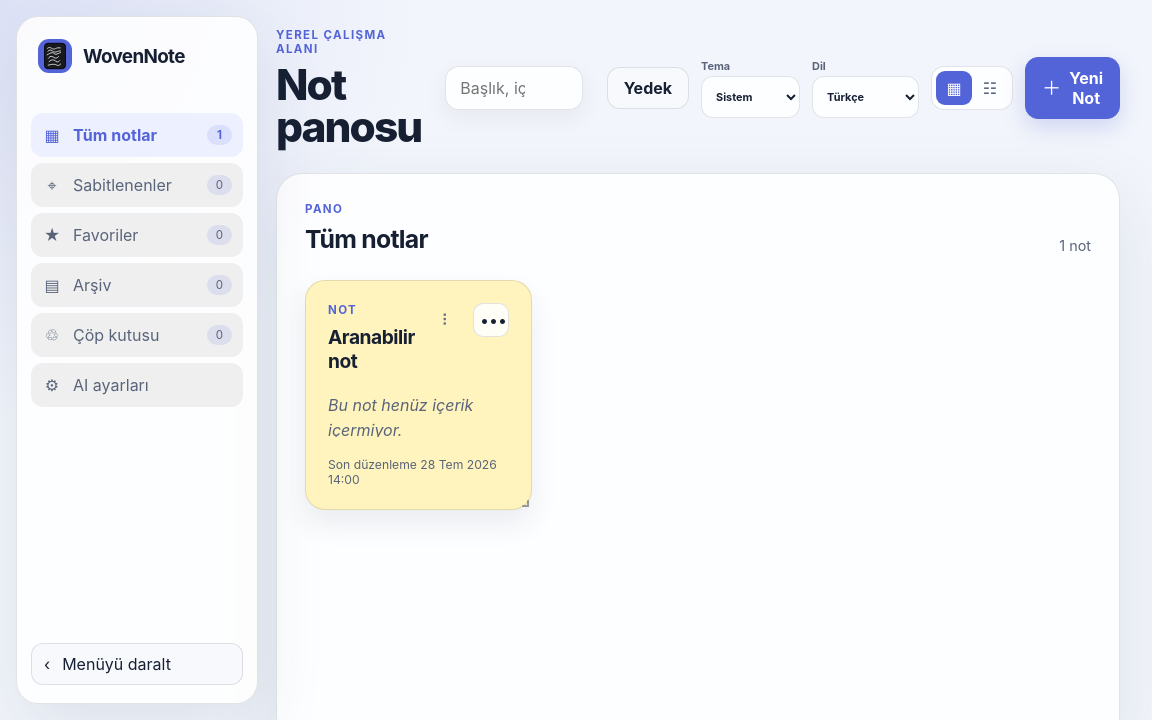
App note board › finds and cycles through matches with the in-note search
Expected: the heading "Aranabilir not" is shown, [328,325,421,373]
Click the button named "Aranabilir not notunu aç": (418, 395) [306,281,531,509]
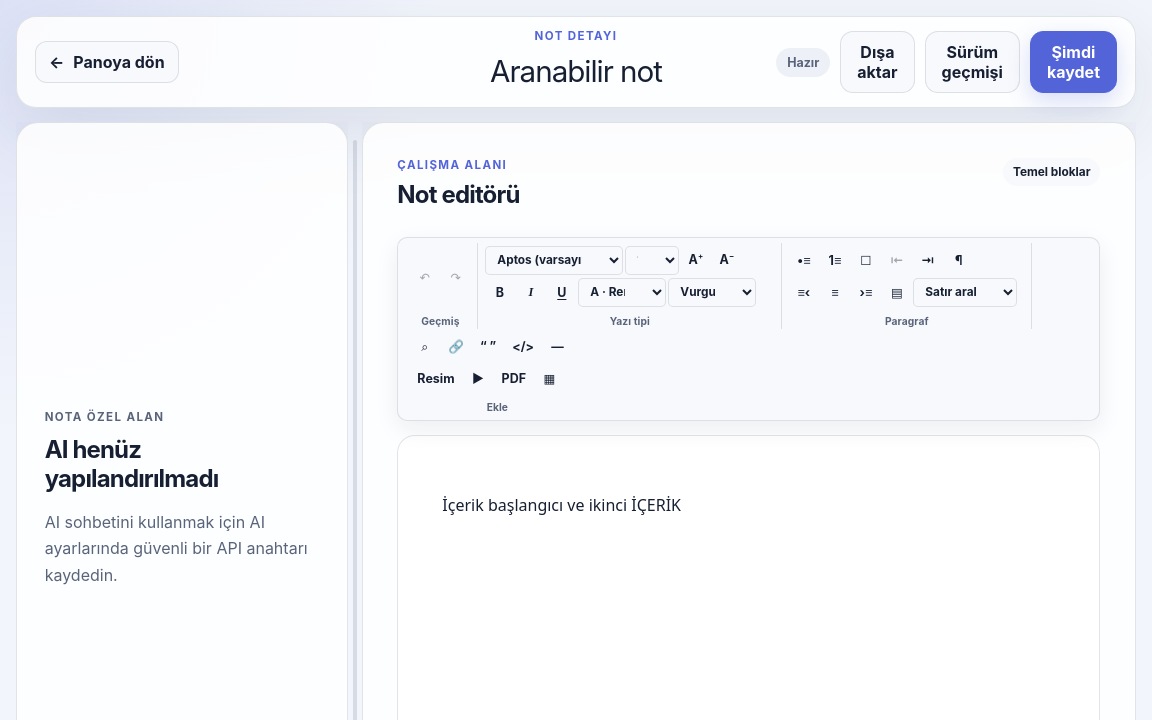
Expected: the text box "İçerik başlangıcı ve ikinci İÇERİK" is shown, [442,494,681,516]
Press f
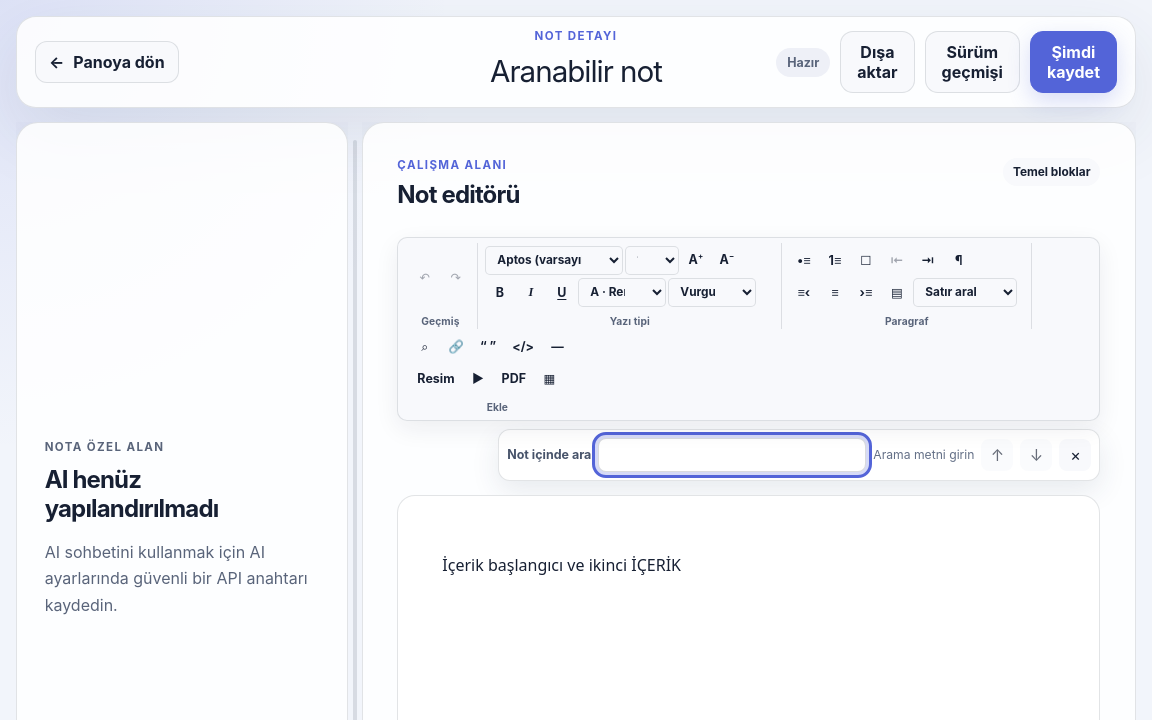
In the search field labelled "Not içinde ara": (732, 454) [598,438,866,472], type "içerik"
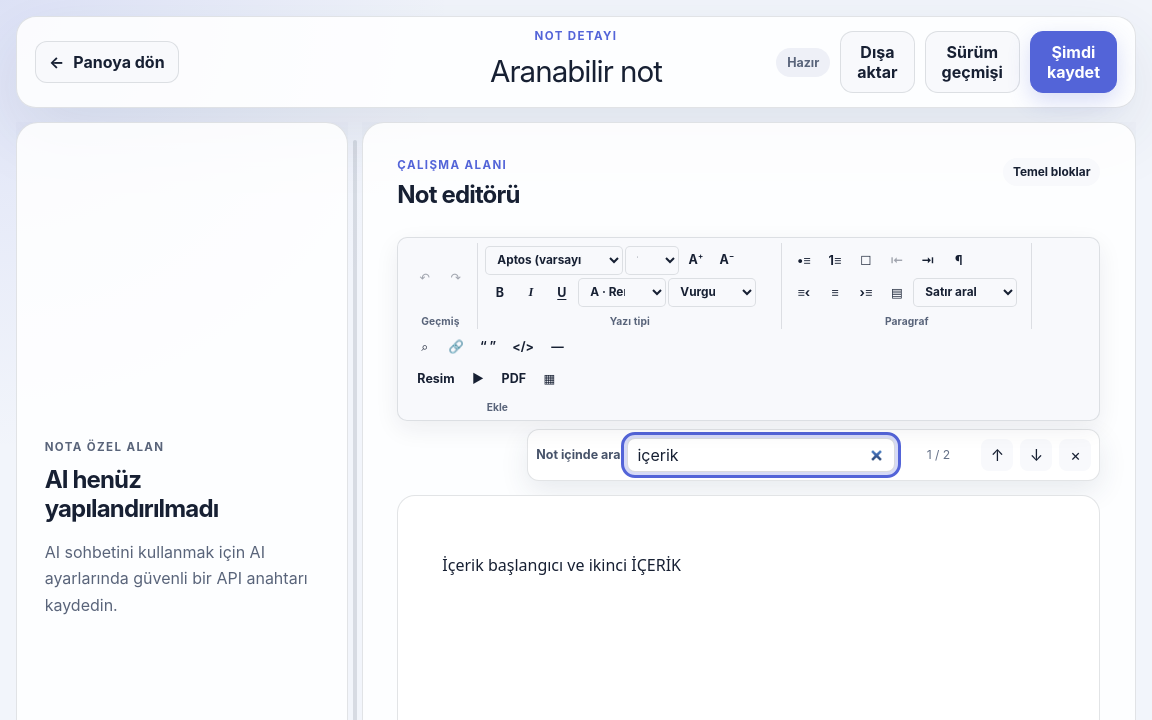
Expected: the text "1 / 2" is shown, [927,447,950,462]
Press Enter in the search field labelled "Not içinde ara", box [628,438,896,472]
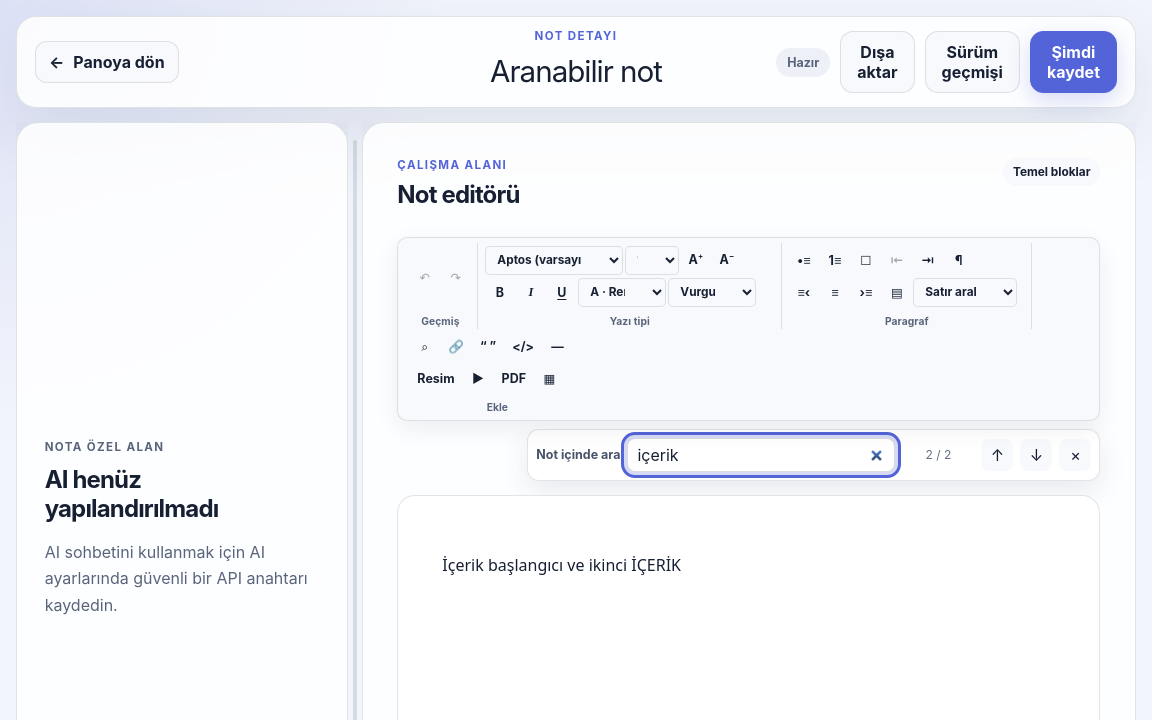
Expected: the text "2 / 2" is shown, [925,447,951,462]
Press Escape in the search field labelled "Not içinde ara", box [628,438,896,472]
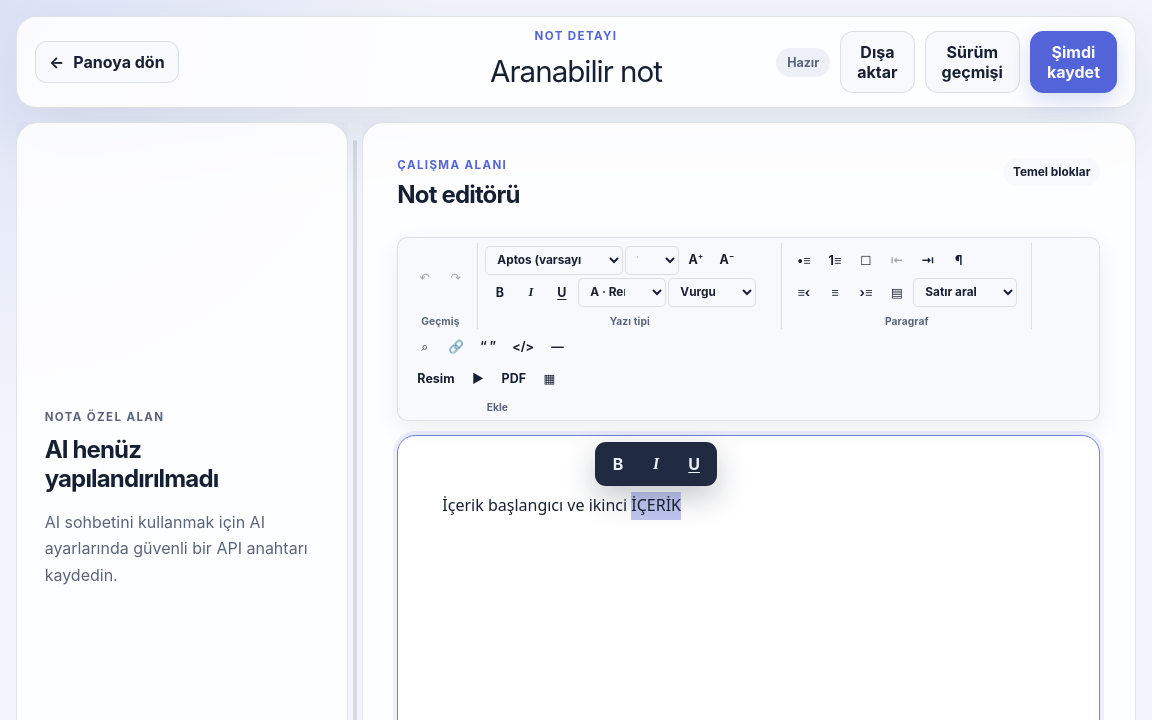
Expected: the label "Not içinde ara" is gone
